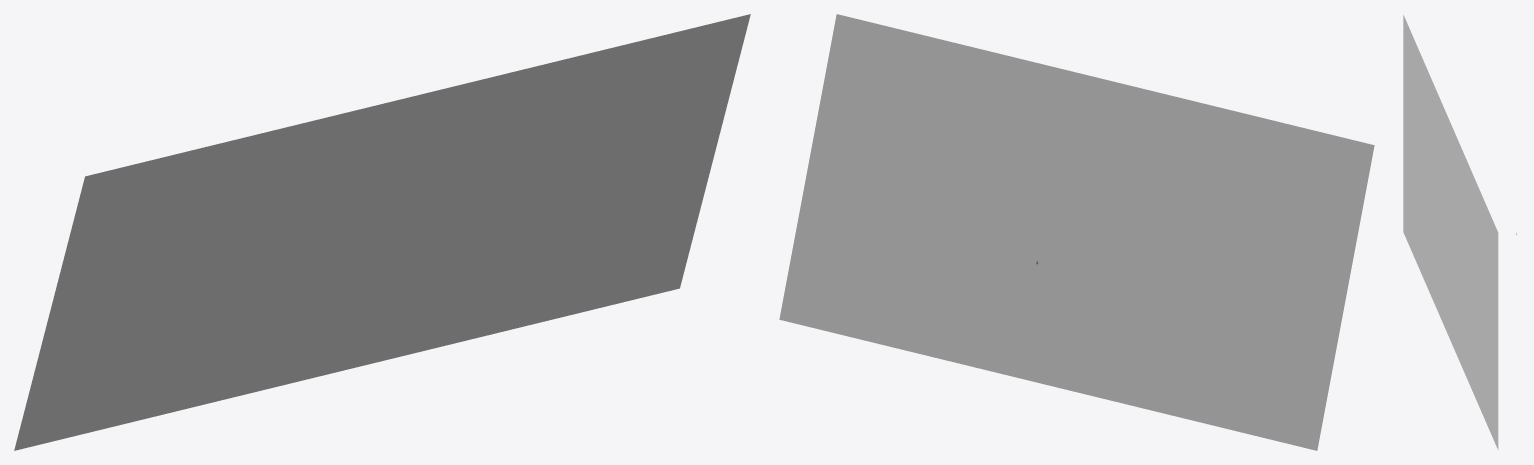
File: Merge.glb
The picture shows the model from 3 angles, left to right: view 1: azimuth 30°, elevation 25°; view 2: azimuth 150°, elevation 25°; view 3: azimuth 270°, elevation 25°; orthographic projection. The views are drawn at different scales.
Visible parts, largest first — view 1: Sky; view 2: Sky; view 3: Sky.
Boxes of the visible parts, box(x1,y1,x2,y2) form: Sky: box(14, 14, 750, 450); Sky: box(779, 14, 1374, 450); Sky: box(1403, 15, 1498, 449).
Size of what is drawn, in the model's own units: 8219 by 3851 by 1856.
6 materials, 5 textured.
